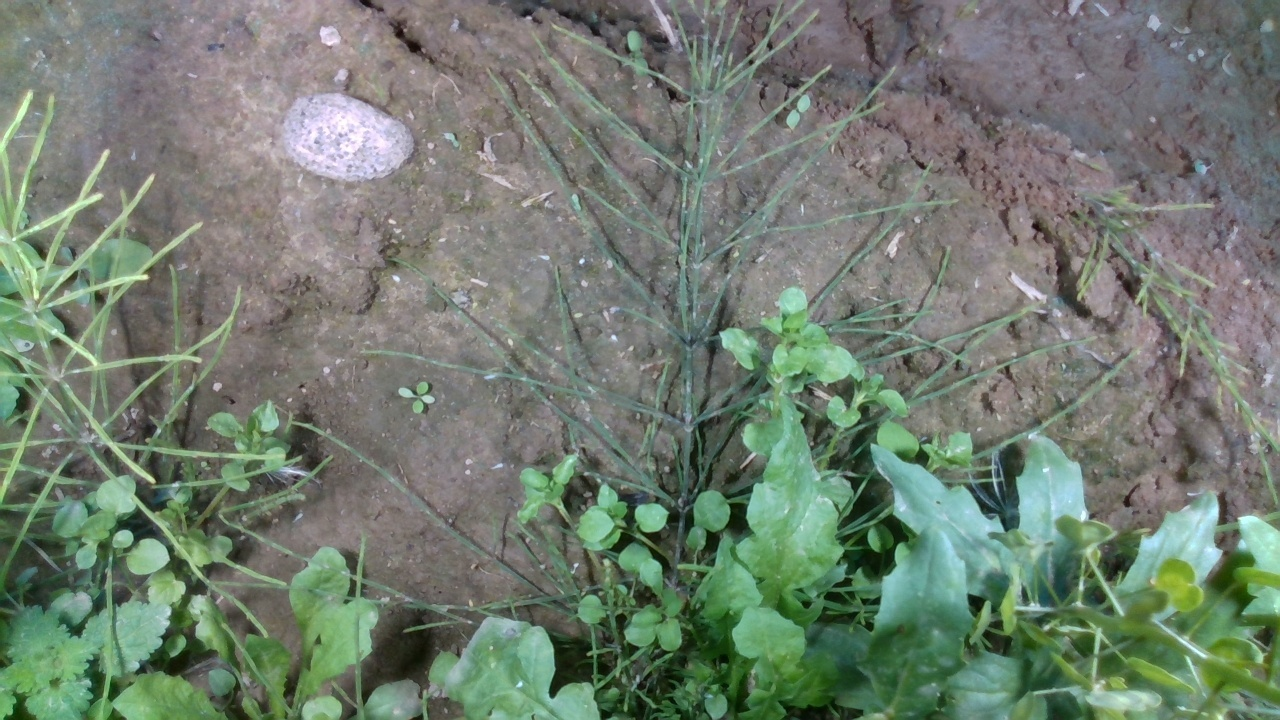weed: (394, 380, 436, 414)
